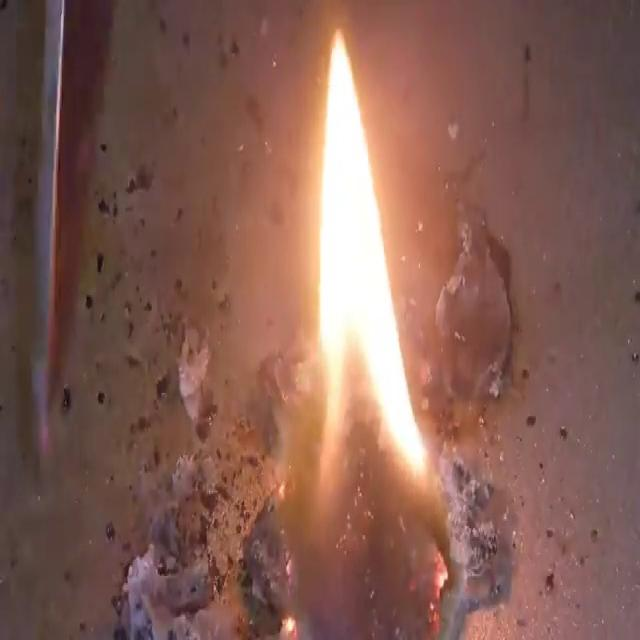Fire: (5, 4, 636, 636)
